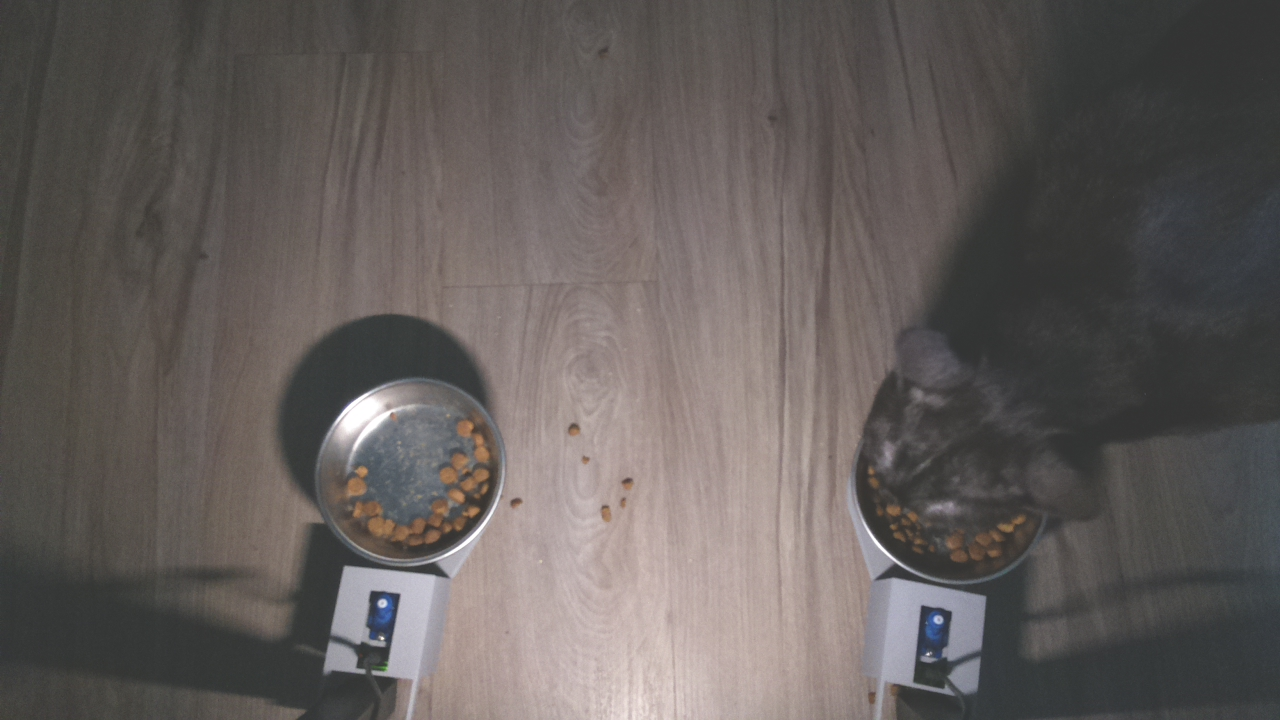open_bowl: (312, 373, 511, 572)
saki_eating: (844, 307, 1140, 590)
